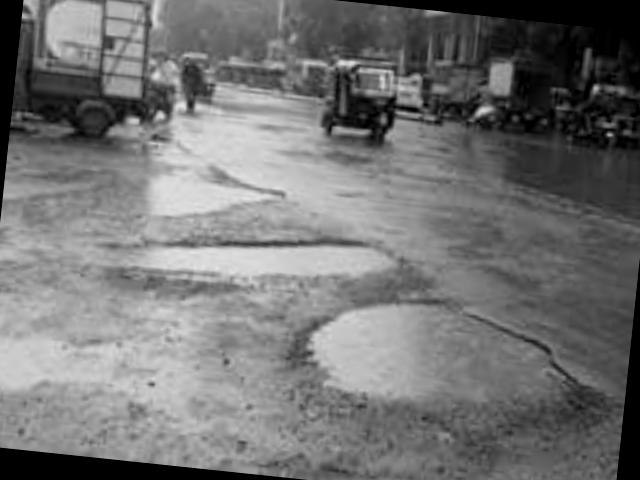Pothole: (298, 282, 586, 424), (83, 206, 404, 308)
